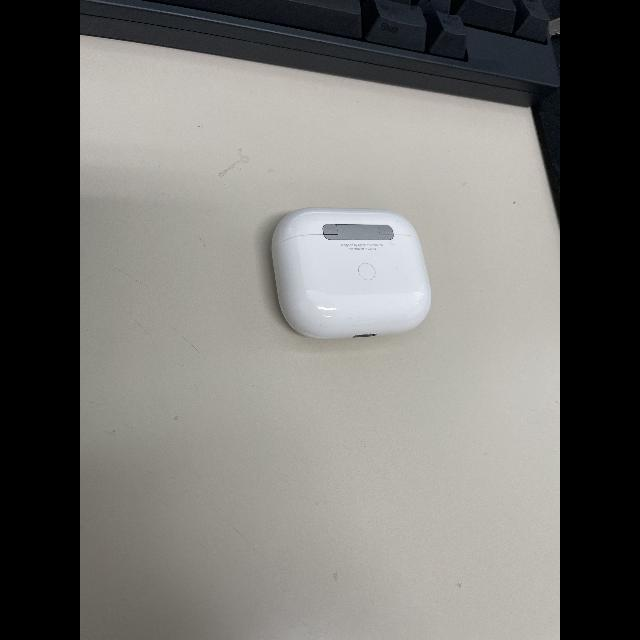airpod3: (268, 203, 436, 337)
